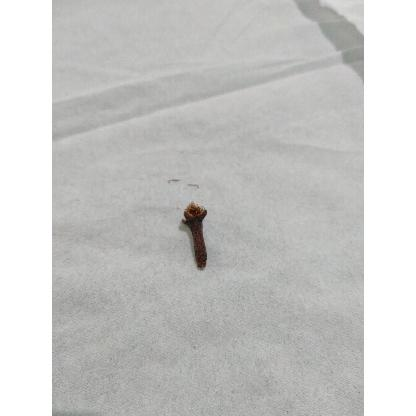buruk: (179, 202, 208, 271)
